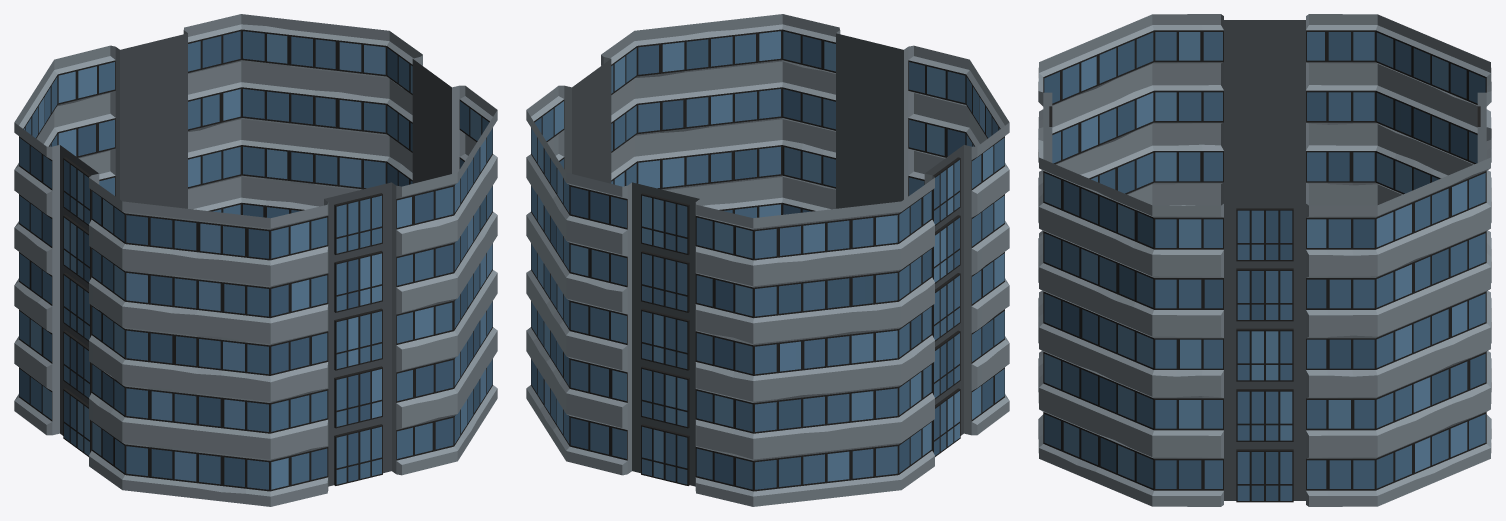
File: bld_octagon.glb
3 renders of one model, left to right at view 1: azimuth 30°, elevation 25°; view 2: azimuth 150°, elevation 25°; view 3: azimuth 270°, elevation 25°, orthographic. The views are drawn at different scales.
Parts seen in each view (by area): view 1: SM_Bld_OfficeOctagon_01; view 2: SM_Bld_OfficeOctagon_01; view 3: SM_Bld_OfficeOctagon_01.
Boxes of the visible parts, x1,y1,x2,y2 form: SM_Bld_OfficeOctagon_01: [14, 14, 497, 506]; SM_Bld_OfficeOctagon_01: [526, 14, 1009, 506]; SM_Bld_OfficeOctagon_01: [1038, 14, 1491, 506].
Bounding box in the file's own units: 20.46 × 15 × 20.46.
Materials: 1 (1 with a texture image).
